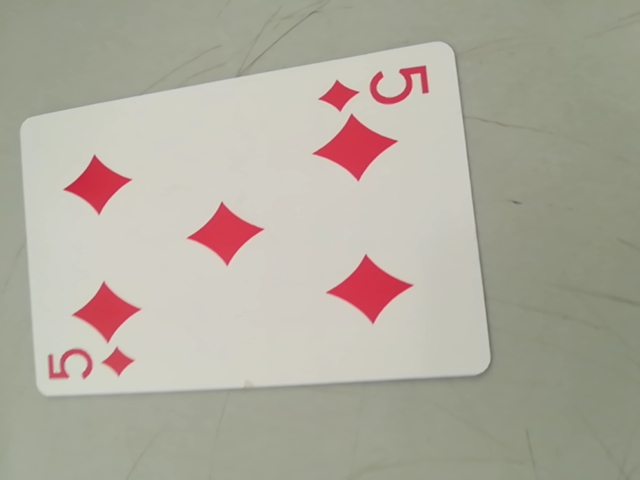fk 5: (320, 58, 434, 115), (39, 338, 141, 393)
